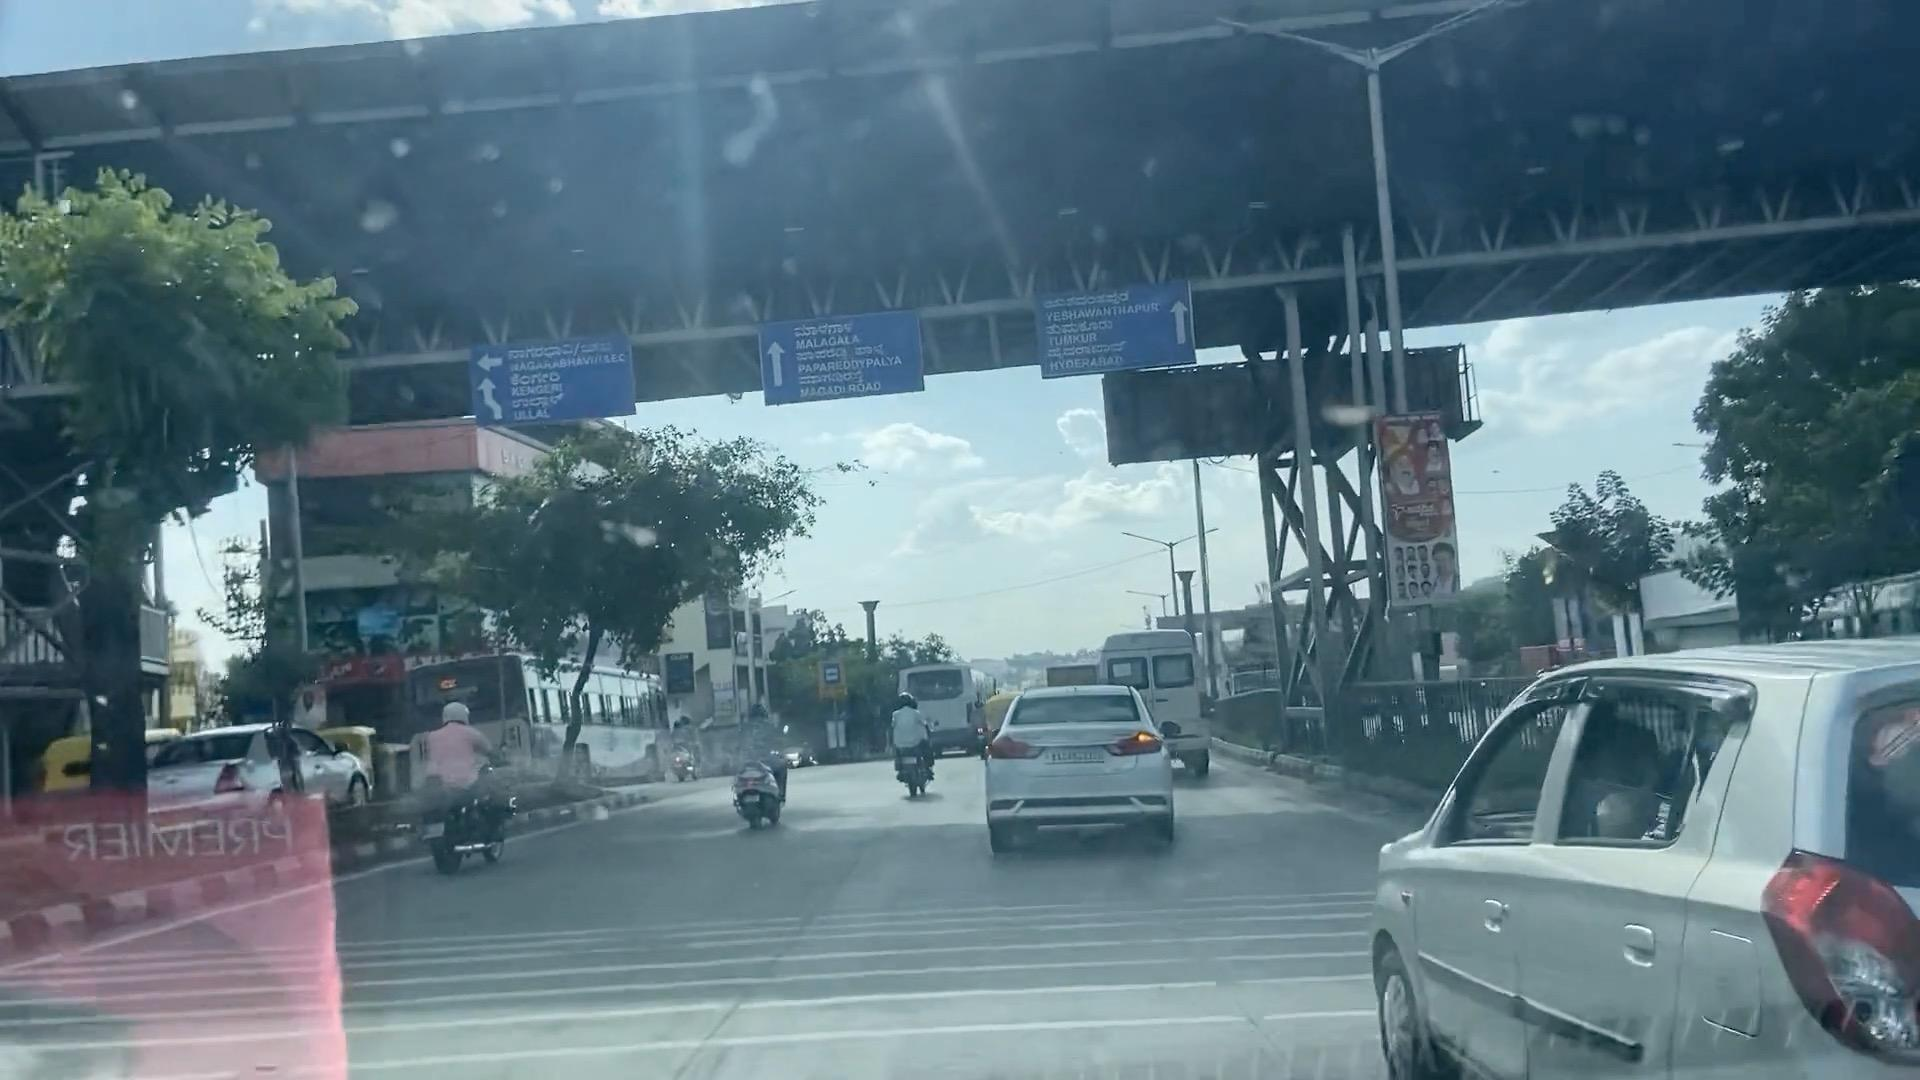LMV: (996, 680, 1183, 835), (405, 698, 538, 876), (870, 680, 955, 804), (735, 700, 793, 845)
SpeedBump: (125, 938, 1192, 1069)
